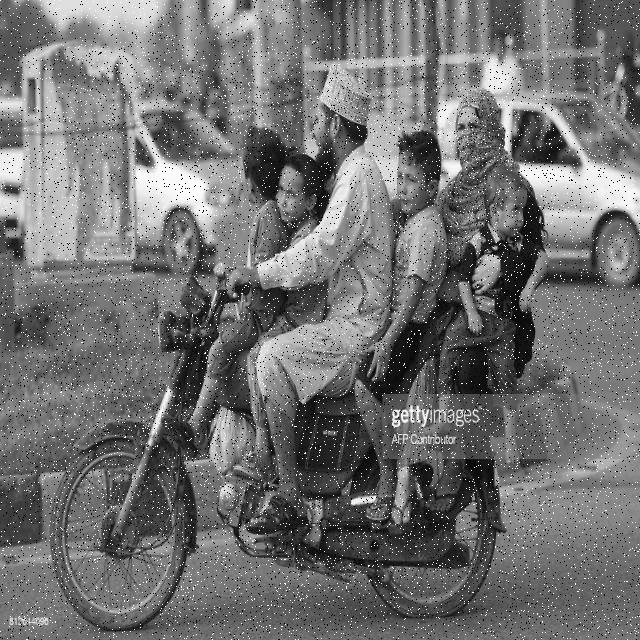Motorbike: (49, 62, 555, 632)
